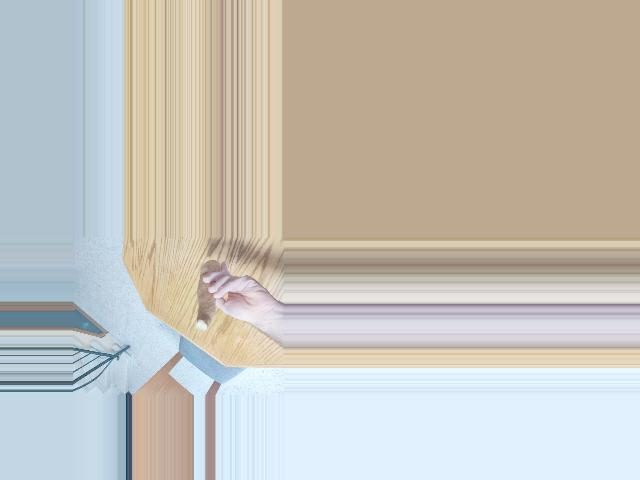sweet_potato: (196, 260, 218, 336)
